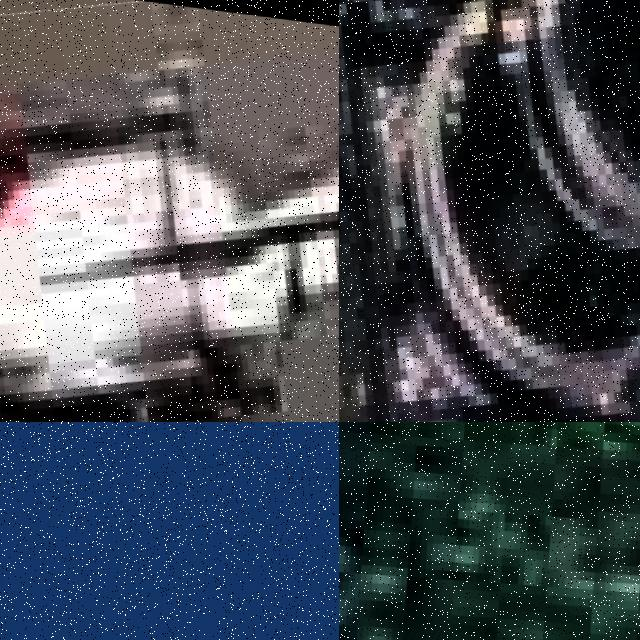0: (0, 0, 339, 422)
drone: (339, 0, 640, 422), (0, 422, 339, 640)
